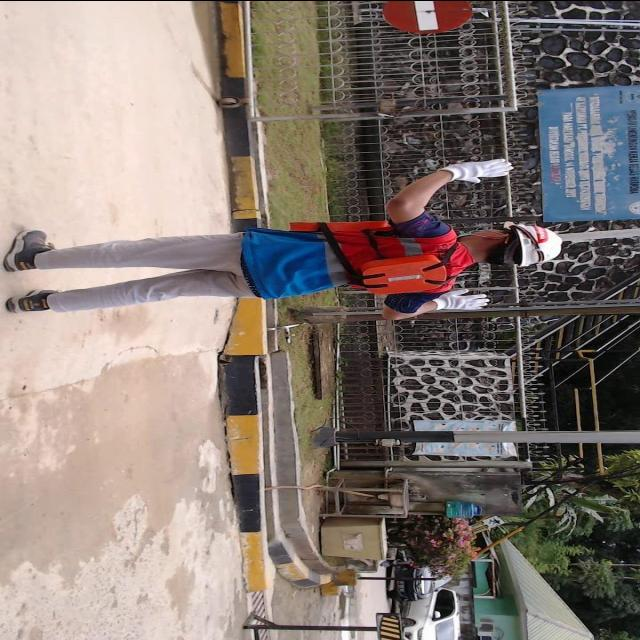helmet: (518, 210, 572, 272)
jacket: (296, 203, 470, 300)
